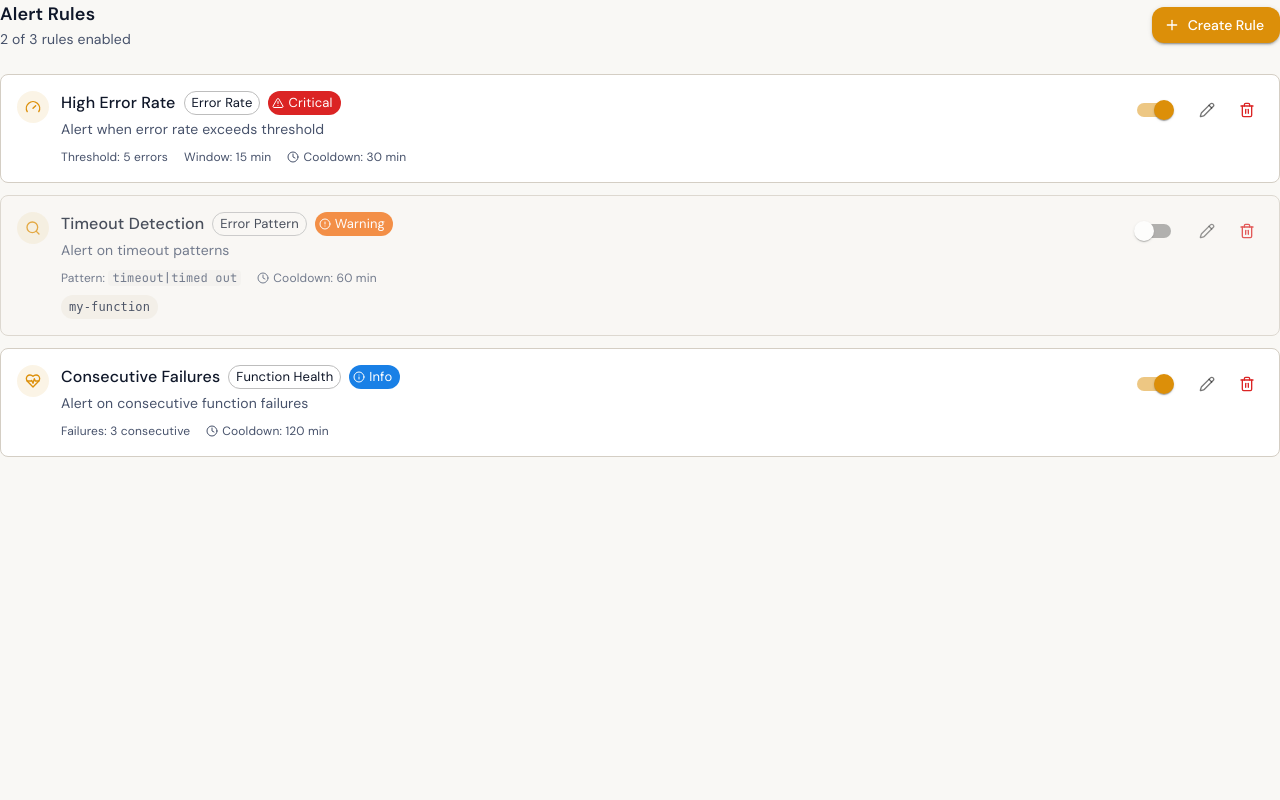
Test: AdminAlertRules › editing loads the rule › shows the fields belonging to the edited rule type
Click the button named "Edit Consecutive Failures" at x=1207, y=384, box x1=1191 y1=368 x2=1223 y2=400
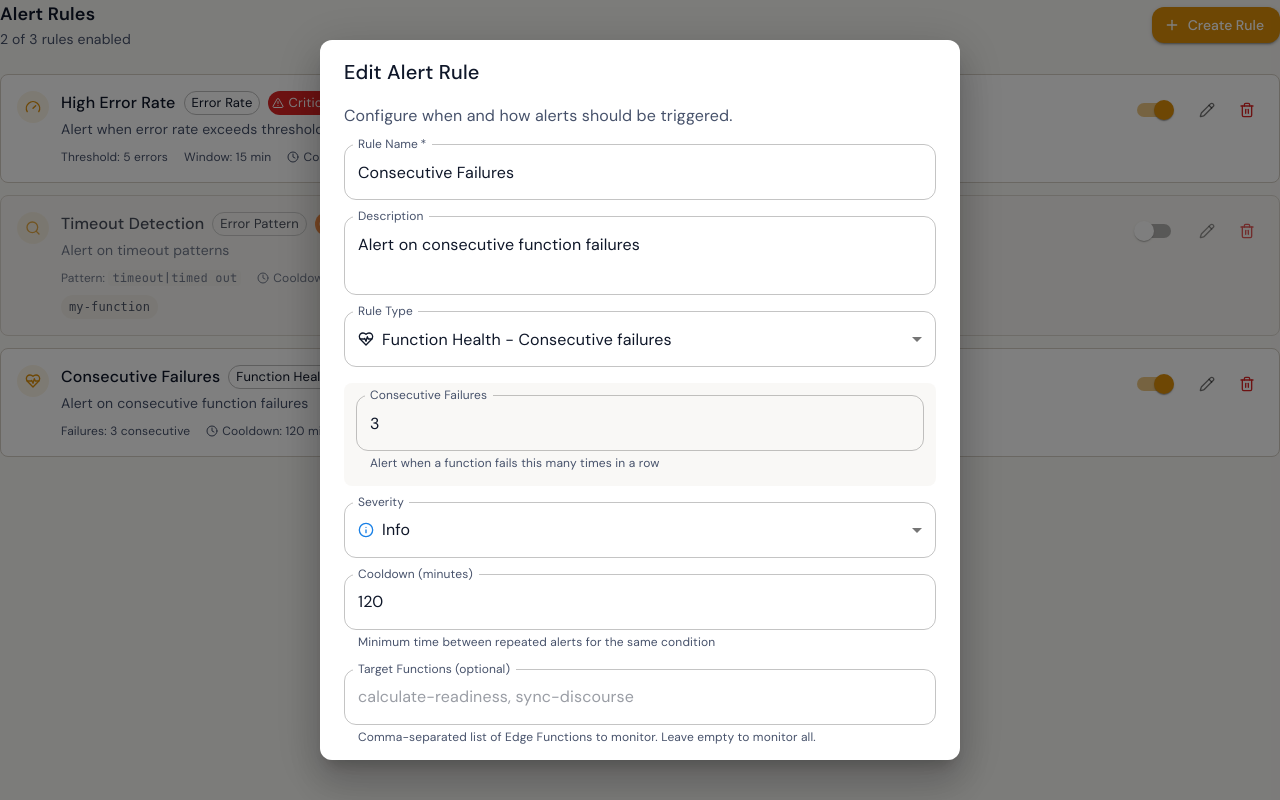
Expected: the number field labelled "Consecutive Failures" holds "3", x1=356 y1=395 x2=924 y2=451
